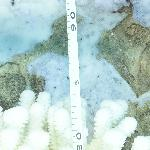alive: (7, 10, 146, 147)
